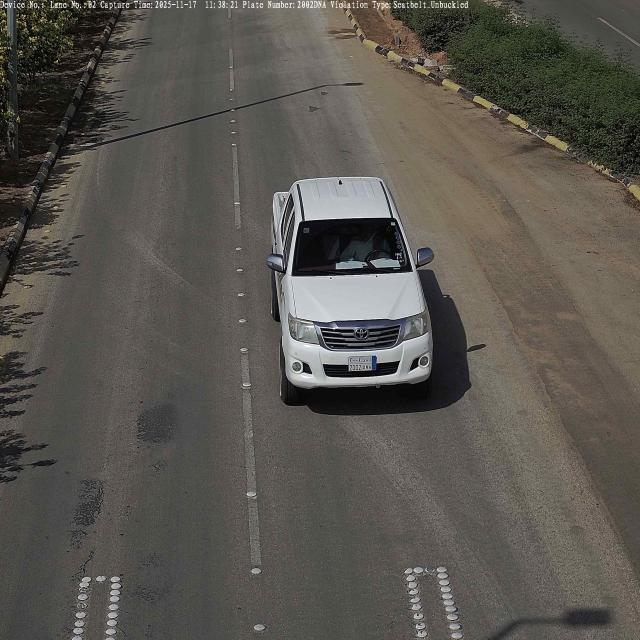person_without_seatbelt: (346, 226, 390, 264)
